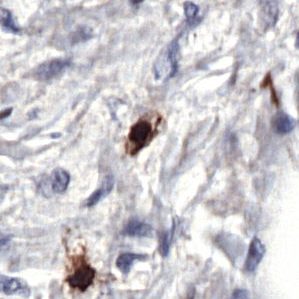Lymphocyte: (128, 114, 157, 153)
